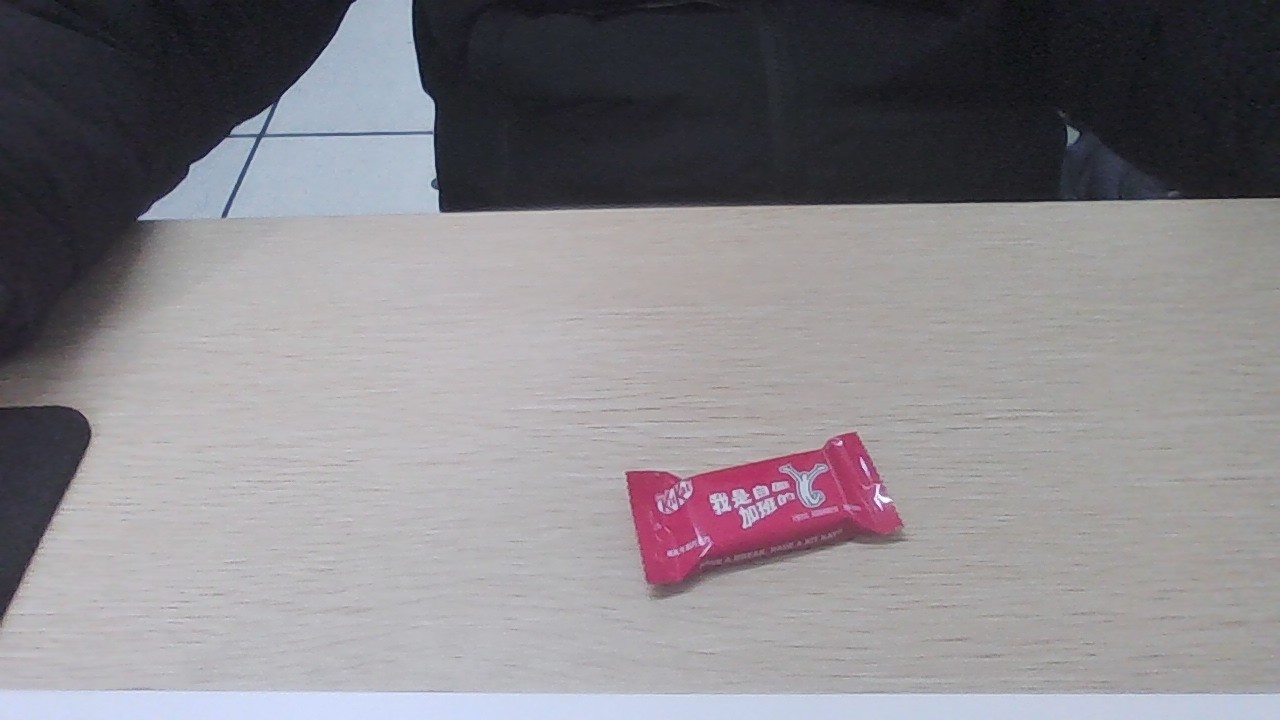CY-chocolate: (628, 444, 877, 562)
